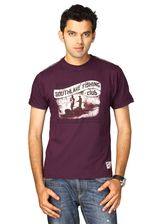clothoes: (28, 55, 143, 180)
watch: (111, 173, 130, 190)
